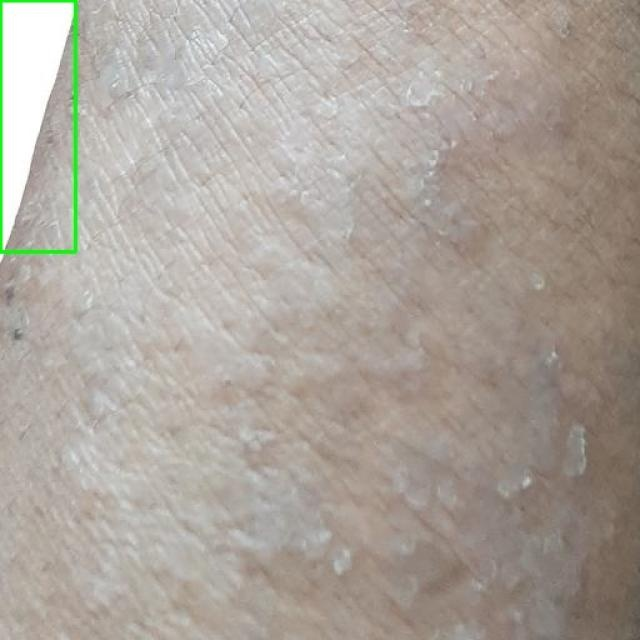Tinea Corporis: (0, 0, 75, 251)
